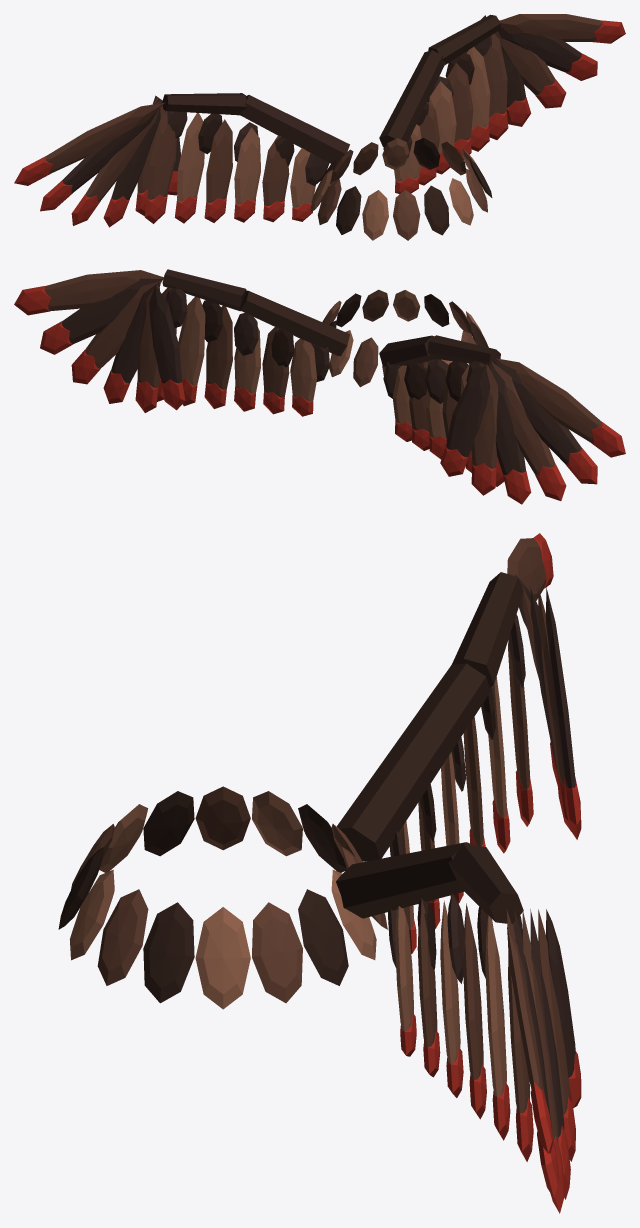
Rendered from harpy_matriarch_wings.glb.
3 views of the same model, one above another, from view 1: azimuth 30°, elevation 25°; view 2: azimuth 150°, elevation 25°; view 3: azimuth 270°, elevation 25° (orthographic). The views are drawn at different scales.
Visible parts, largest first — view 1: harpy_matriarch_wings; view 2: harpy_matriarch_wings; view 3: harpy_matriarch_wings.
Part boxes in pixels (x1=…): harpy_matriarch_wings: x1=14, y1=14, x2=625, y2=240; harpy_matriarch_wings: x1=14, y1=269, x2=625, y2=504; harpy_matriarch_wings: x1=58, y1=533, x2=581, y2=1213.
Bounding box in the file's own units: 3.57 × 0.7628 × 1.32.
